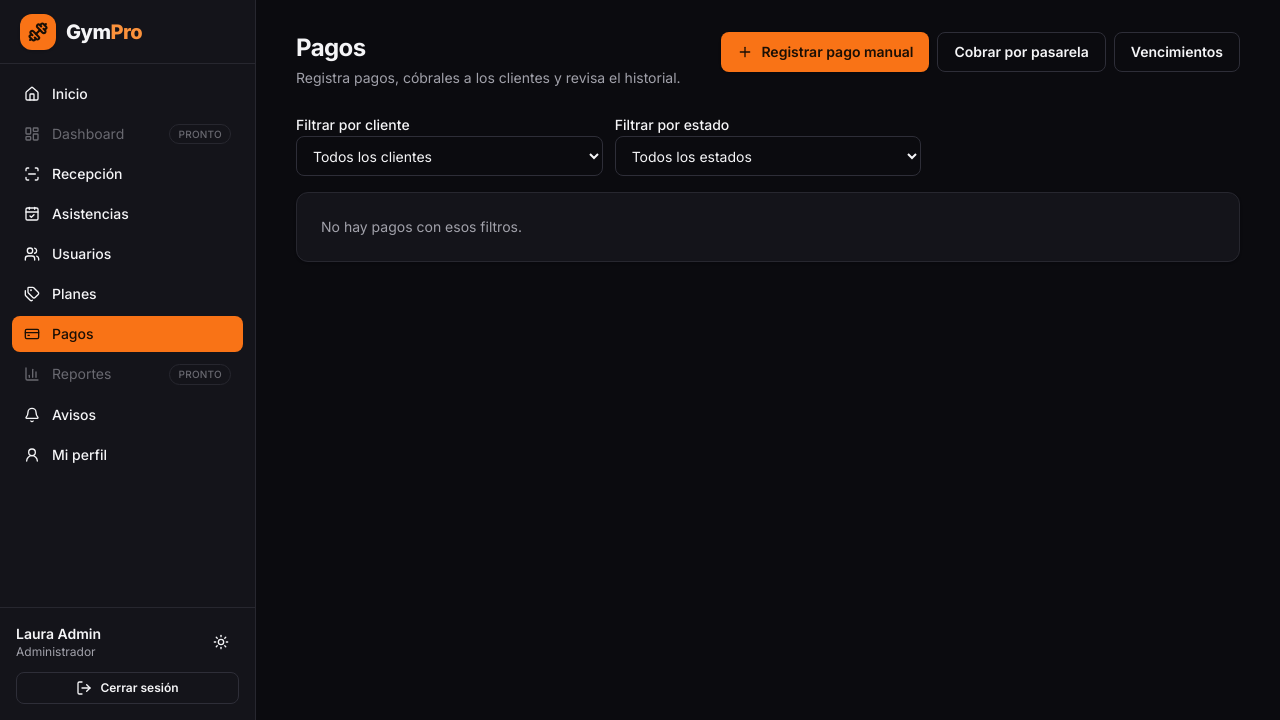
Test: Vencimientos en Pagos (administrador) › muestra los clientes por vencer y en mora con su teléfono y días
Click the button "Vencimientos" at (1177, 52), box [1114,32,1240,72]
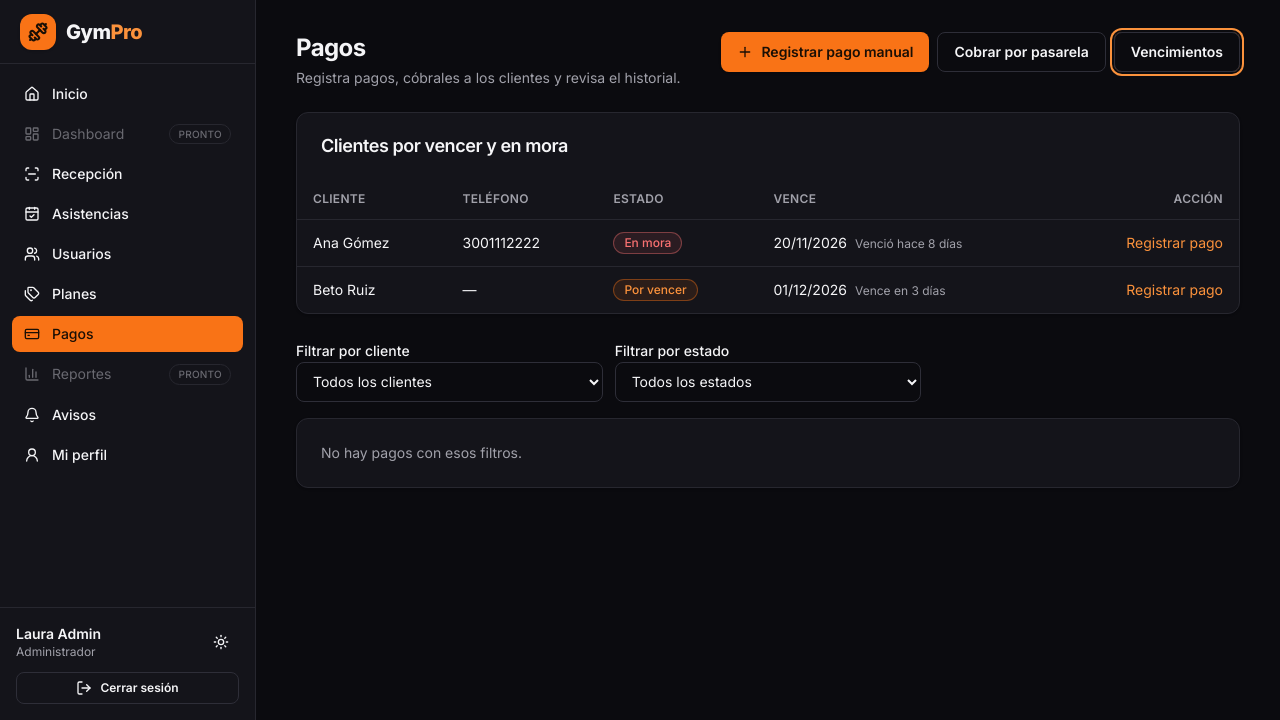
Expected: the heading "Clientes por vencer y en mora" is shown, [321,135,568,156]
Expected: the text "3001112222" is shown, [446,219,597,266]
Expected: the text "Venció hace 8 días" is shown, [855,236,962,250]
se vuelve a ocultar
Click the button "Vencimientos" at (1177, 52), box [1114,32,1240,72]
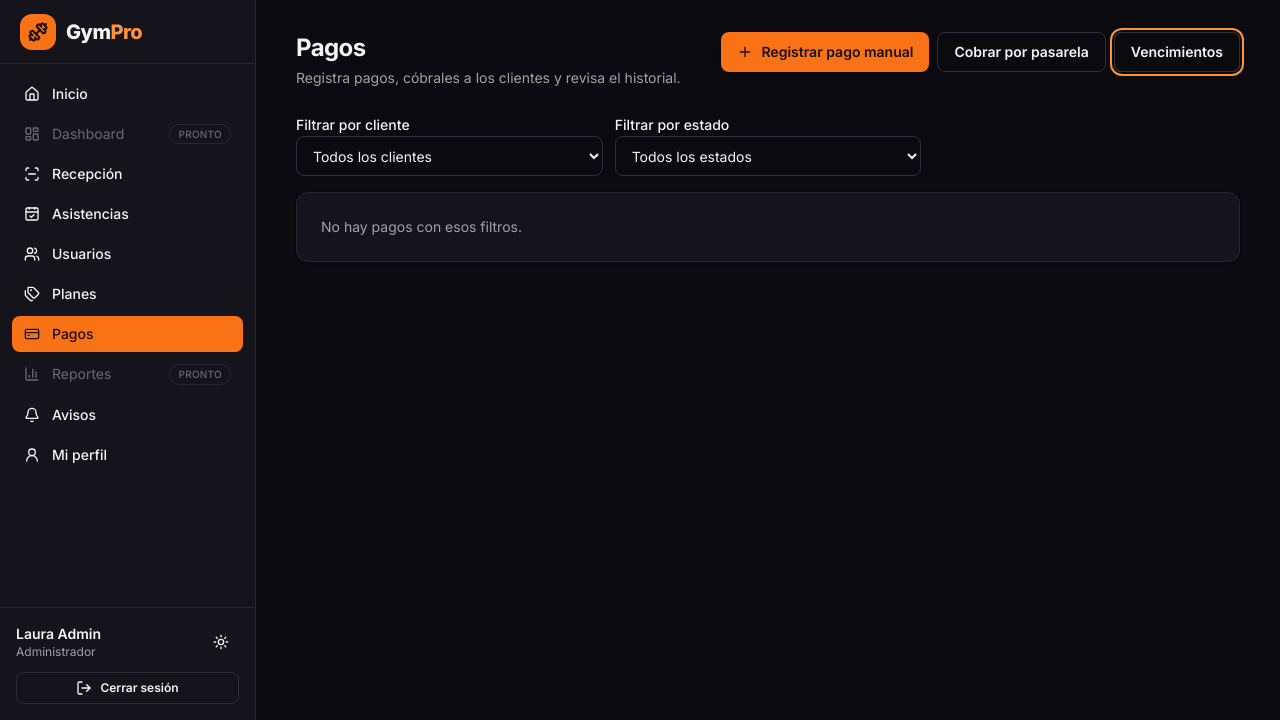
Expected: the heading "Clientes por vencer y en mora" is gone
